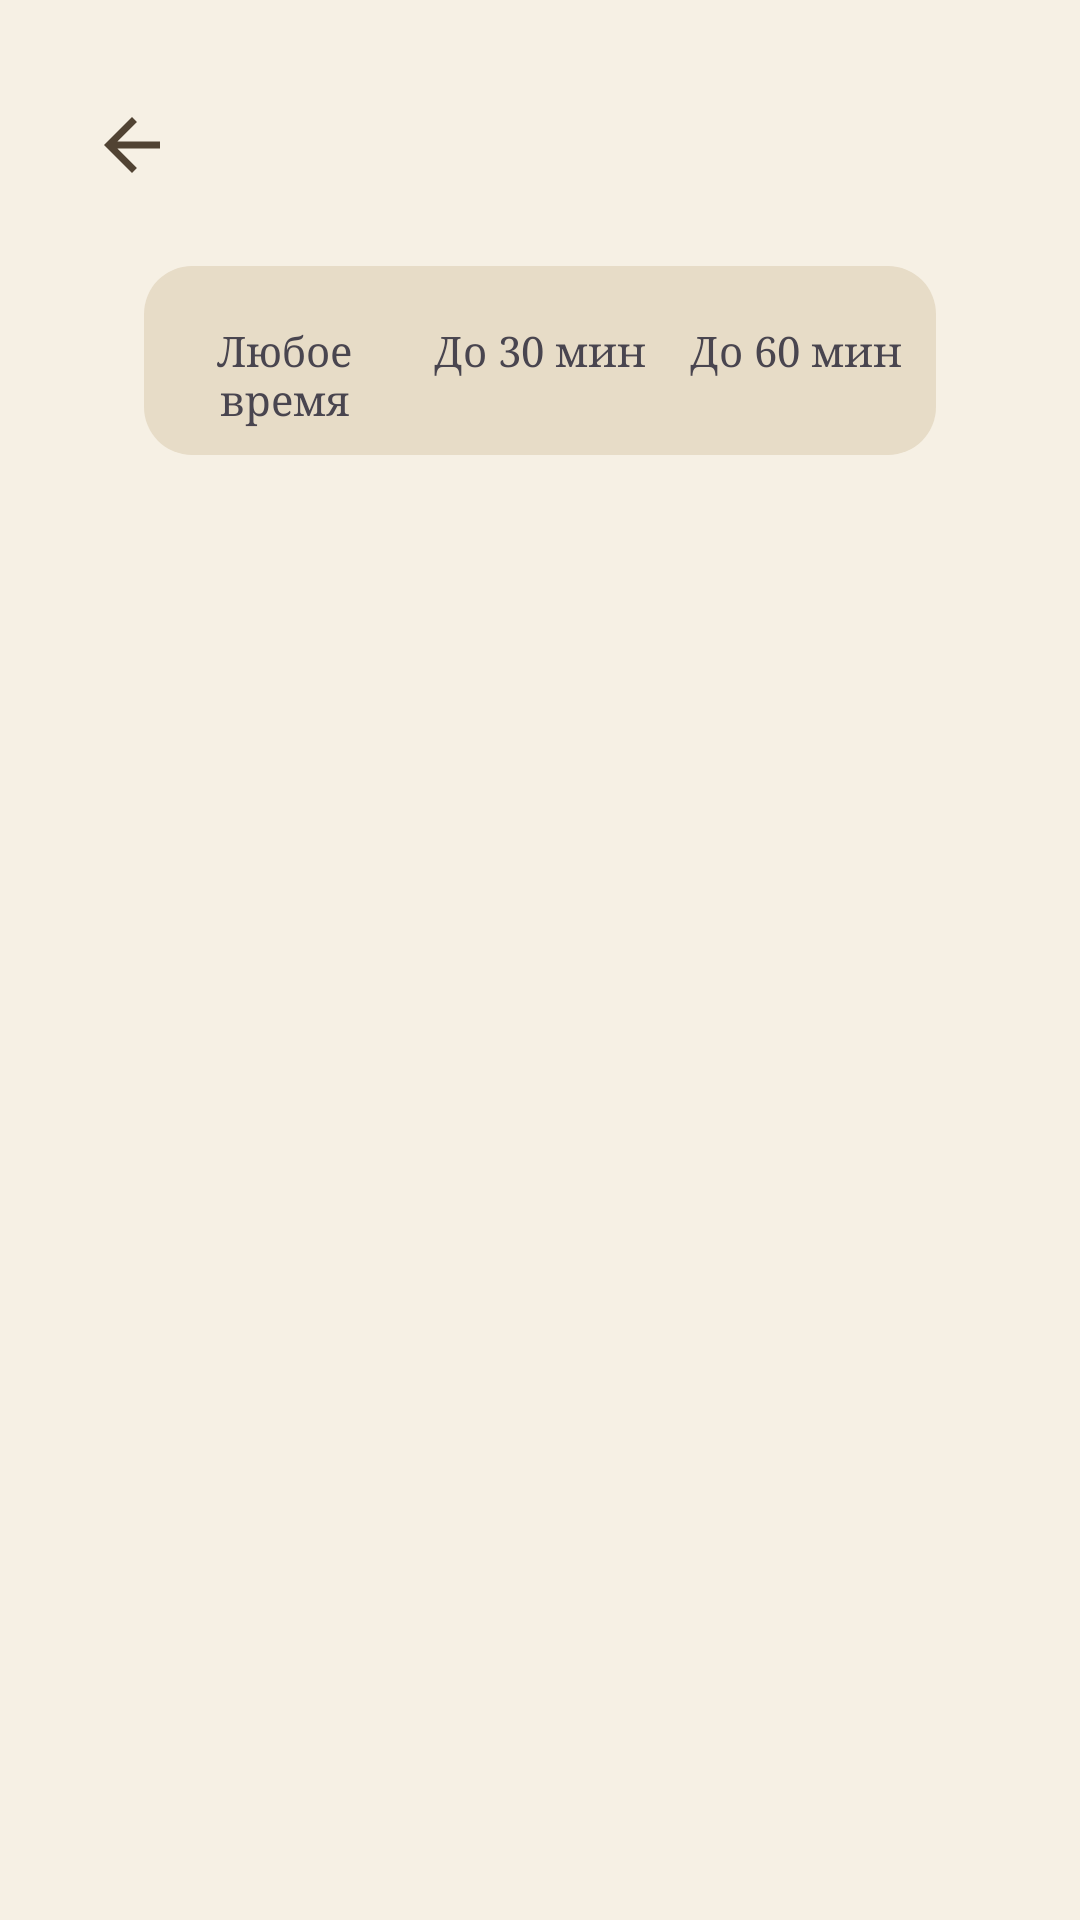

Locate icon controls on the screen. Image size 1080*1920, boxes as (x1, y1, x2, y2).
Назад: (104, 117, 160, 173)
